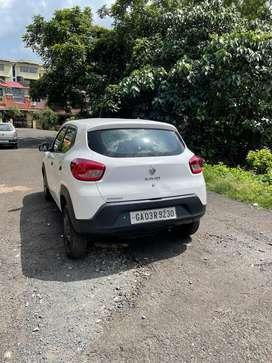GA03R9230: (128, 206, 176, 223)
